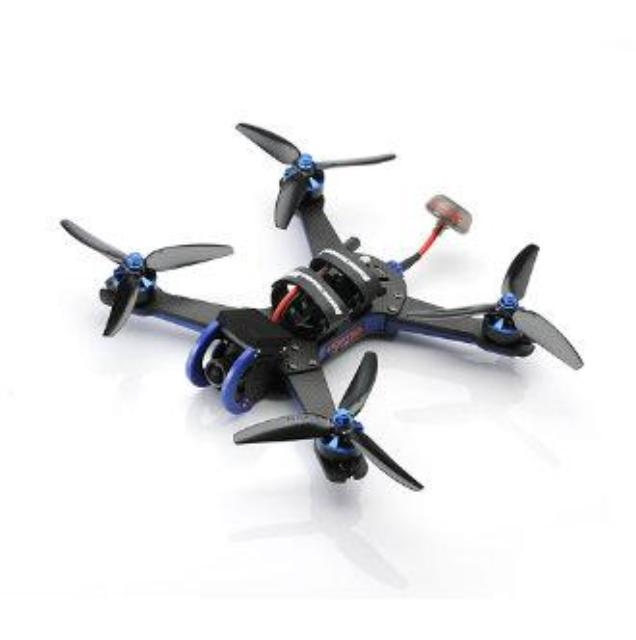drone: (54, 90, 606, 502)
